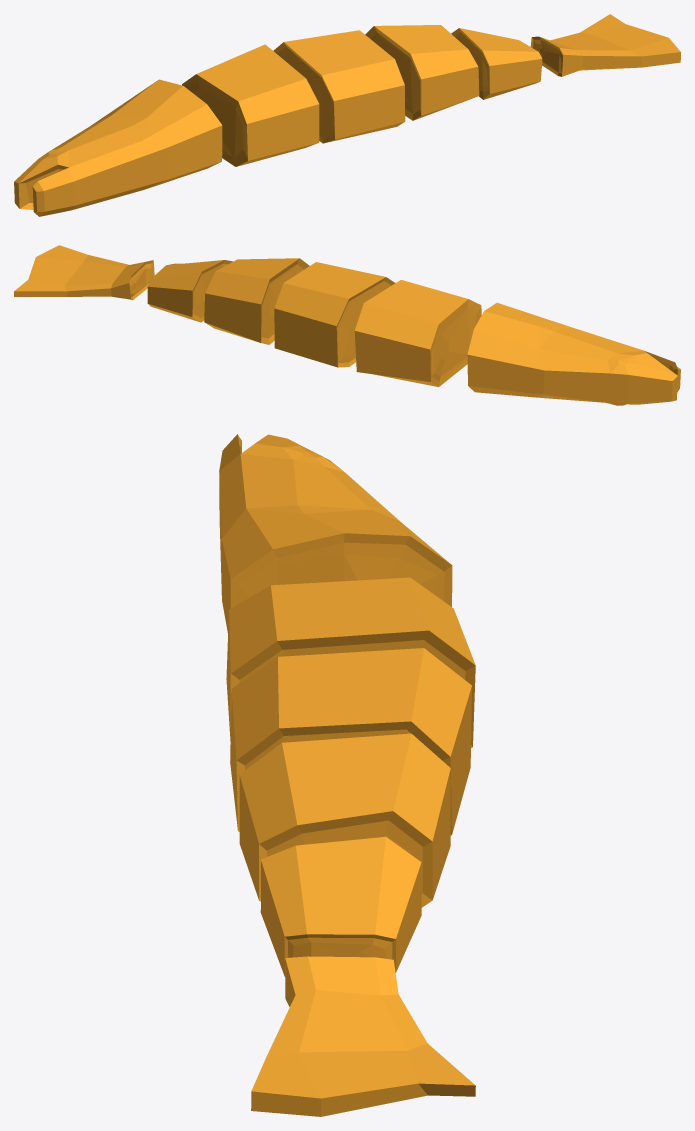
File: SM_Fish_Cut_Fantasy.fbx
The picture shows the model from 3 angles, top to bottom: view 1: azimuth 30°, elevation 25°; view 2: azimuth 150°, elevation 25°; view 3: azimuth 270°, elevation 25°; orthographic projection. The views are drawn at different scales.
Visible parts, largest first — view 1: fish-cut-head-fantasy, fish-cut-a-fantasy, fish-cut-b-fantasy, fish-cut-c-fantasy, fish-cut-tail-fantasy, fish-cut-d-fantasy; view 2: fish-cut-head-fantasy, fish-cut-a-fantasy, fish-cut-b-fantasy, fish-cut-c-fantasy, fish-cut-tail-fantasy, fish-cut-d-fantasy; view 3: fish-cut-head-fantasy, fish-cut-tail-fantasy, fish-cut-c-fantasy, fish-cut-b-fantasy, fish-cut-a-fantasy, fish-cut-d-fantasy.
Part boxes in pixels (<box>): fish-cut-head-fantasy: <box>14,79,222,216</box>; fish-cut-a-fantasy: <box>182,44,319,166</box>; fish-cut-b-fantasy: <box>273,30,405,143</box>; fish-cut-c-fantasy: <box>365,25,479,120</box>; fish-cut-tail-fantasy: <box>530,14,680,76</box>; fish-cut-d-fantasy: <box>451,28,542,99</box>; fish-cut-head-fantasy: <box>467,302,680,405</box>; fish-cut-a-fantasy: <box>354,280,481,386</box>; fish-cut-b-fantasy: <box>274,262,395,367</box>; fish-cut-c-fantasy: <box>204,258,309,344</box>; fish-cut-tail-fantasy: <box>14,245,154,300</box>; fish-cut-d-fantasy: <box>147,260,232,322</box>; fish-cut-head-fantasy: <box>219,434,452,632</box>; fish-cut-tail-fantasy: <box>251,956,475,1116</box>; fish-cut-c-fantasy: <box>239,733,450,907</box>; fish-cut-b-fantasy: <box>230,648,471,835</box>; fish-cut-a-fantasy: <box>226,577,475,747</box>; fish-cut-d-fantasy: <box>260,836,421,976</box>.
Size of the model in its own units: 0.7569 by 0.083 by 0.1337.
